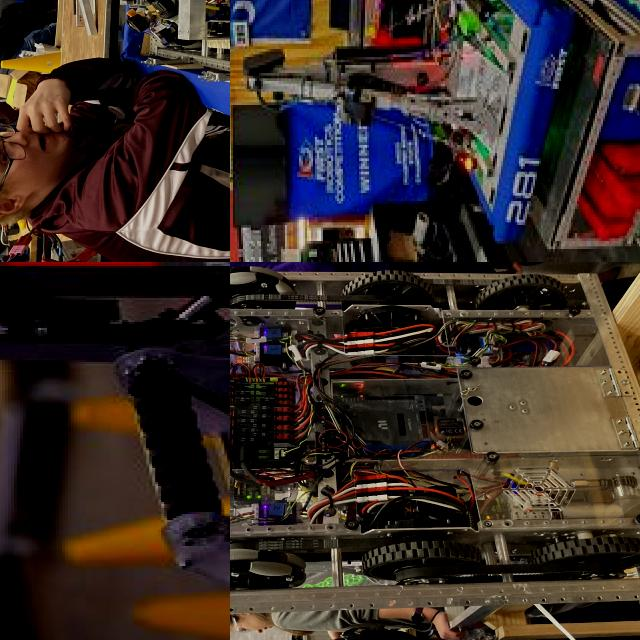FRC-Robots: (230, 262, 640, 640), (230, 0, 577, 262), (0, 262, 230, 640), (0, 0, 230, 177)
